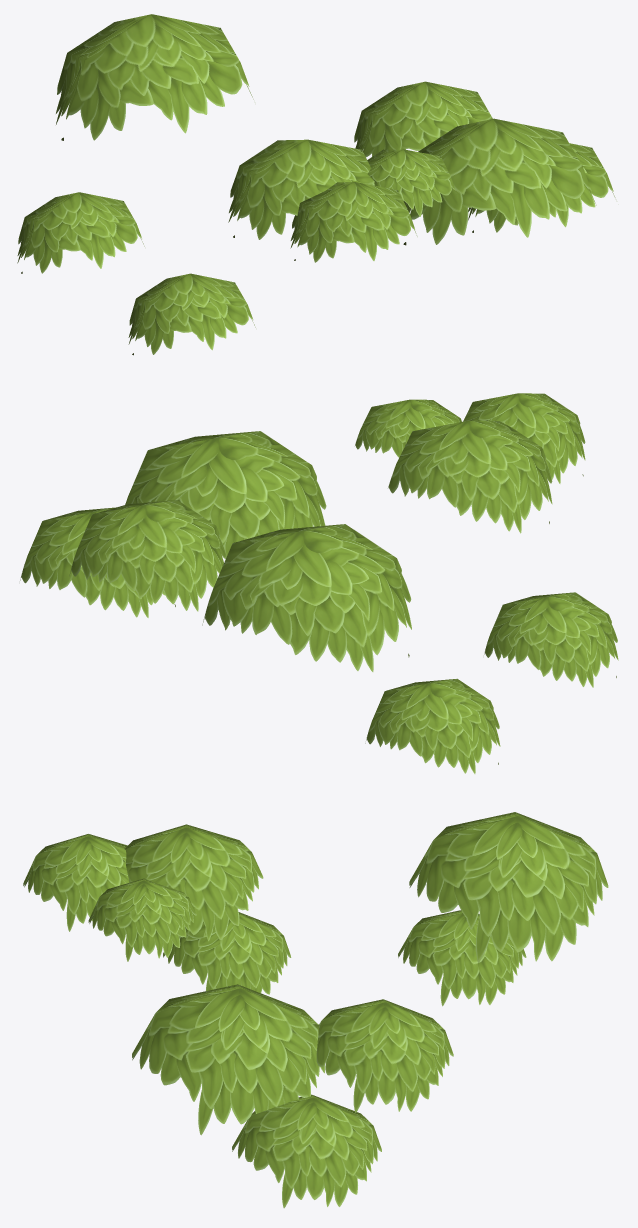
Rendered from Boab Leaves #2.fbx.
The picture shows the model from 3 angles, top to bottom: view 1: azimuth 30°, elevation 25°; view 2: azimuth 150°, elevation 25°; view 3: azimuth 270°, elevation 25°; orthographic projection. The views are drawn at different scales.
Visible parts, largest first — view 1: Boab Leaves #2; view 2: Boab Leaves #2; view 3: Boab Leaves #2.
Part boxes in pixels (bbox=[...]): Boab Leaves #2: bbox=[17, 14, 615, 355]; Boab Leaves #2: bbox=[20, 393, 618, 773]; Boab Leaves #2: bbox=[23, 812, 608, 1208].
Size of the model in its own units: 333 by 126 by 319.
1 material, 1 textured.
